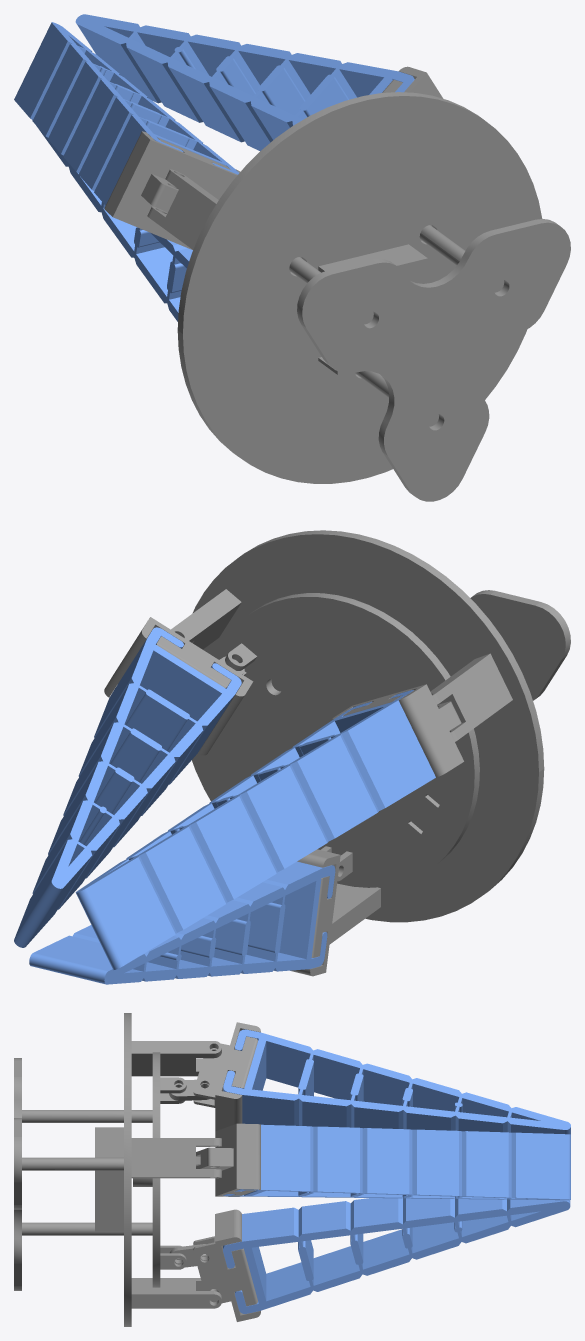
Rendered from model_3 finger.glb.
3 views of the same model, one above another, from view 1: azimuth 30°, elevation 25°; view 2: azimuth 150°, elevation 25°; view 3: azimuth 270°, elevation 25° (orthographic). The views are drawn at different scales.
Visible parts, largest first — view 1: empty_4, empty_8, empty_14, empty_18, empty_17, empty_16, empty_6, empty_13, empty_12; view 2: empty_4, empty_18, empty_3, empty_14, empty_16, empty_8, empty_17, empty_13, empty_15; view 3: empty_14, empty_16, empty_18, empty_4, empty_15, empty_17, empty_13, empty_3, empty_8, empty_5, empty_2, empty_6 (+2 smaller).
Boxes of the visible parts, x1,y1,x2,y2 form: empty_4: (147, 92, 542, 483); empty_8: (297, 219, 570, 501); empty_14: (75, 14, 414, 150); empty_18: (14, 22, 239, 205); empty_17: (104, 131, 240, 249); empty_16: (32, 120, 192, 321); empty_6: (419, 225, 503, 292); empty_13: (382, 66, 443, 98); empty_12: (335, 257, 427, 374); empty_4: (171, 530, 544, 944); empty_18: (75, 690, 435, 970); empty_3: (209, 593, 479, 887); empty_14: (14, 627, 241, 947); empty_16: (29, 861, 335, 984); empty_8: (470, 590, 570, 700); empty_17: (332, 684, 463, 777); empty_13: (104, 617, 253, 755); empty_15: (290, 849, 340, 976); empty_14: (223, 1124, 570, 1200); empty_16: (223, 1198, 570, 1313); empty_18: (223, 1029, 570, 1134); empty_4: (97, 1013, 221, 1326); empty_15: (193, 1209, 260, 1321); empty_17: (193, 1022, 260, 1131); empty_13: (196, 1123, 260, 1196); empty_3: (133, 1052, 186, 1287); empty_8: (14, 1058, 21, 1290); empty_5: (22, 1110, 152, 1122); empty_2: (22, 1222, 152, 1235); empty_6: (22, 1157, 123, 1170).
Size of the model in its own units: 120 by 120 by 213.
